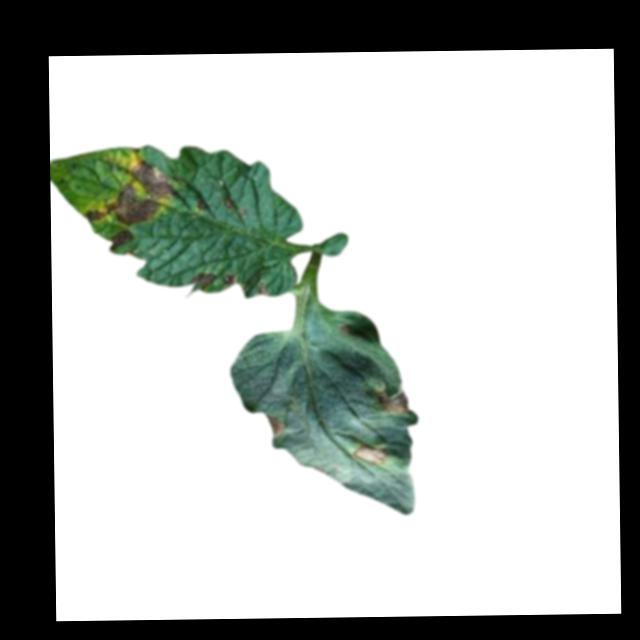Early_blight: (85, 158, 177, 226), (372, 386, 409, 417), (354, 445, 387, 466), (188, 271, 217, 291), (106, 230, 135, 248), (265, 416, 282, 437), (222, 274, 239, 287), (222, 196, 232, 212)
